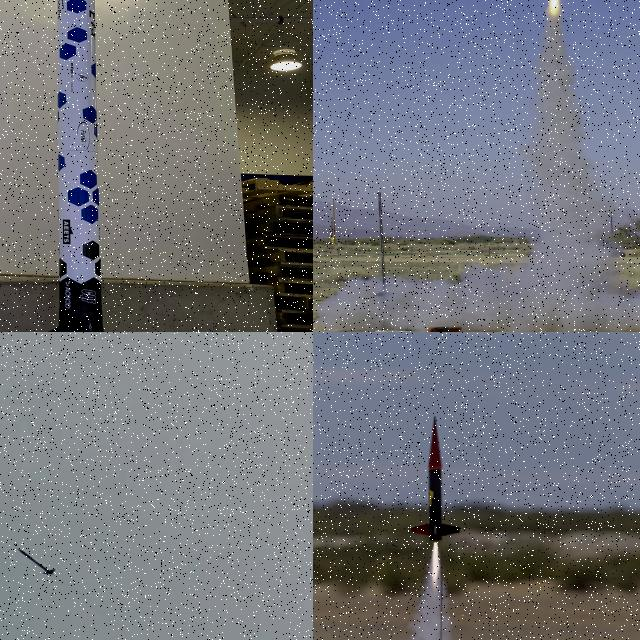Rocket: (47, 0, 105, 332), (410, 416, 461, 542), (15, 548, 56, 574)
